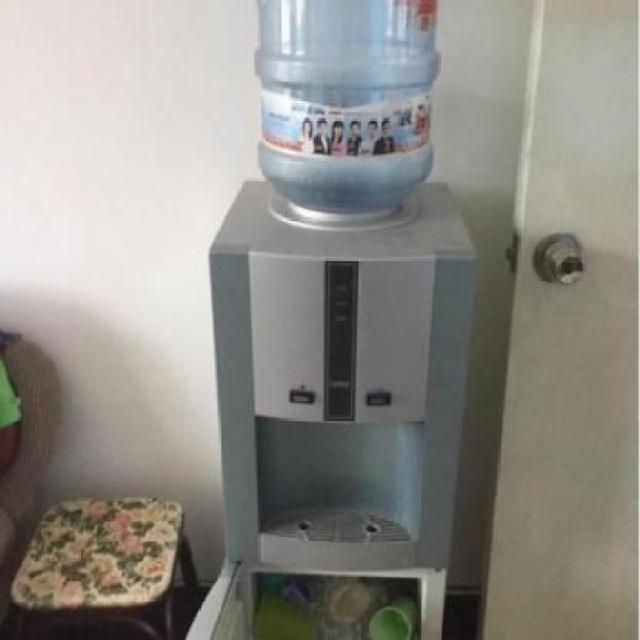cooler: (210, 0, 478, 640)
